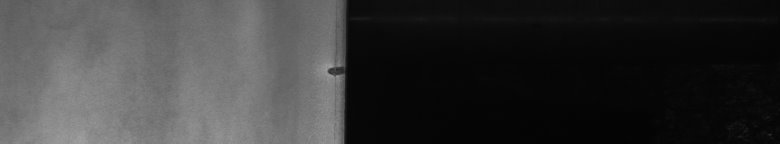hb: (322, 60, 332, 82)
